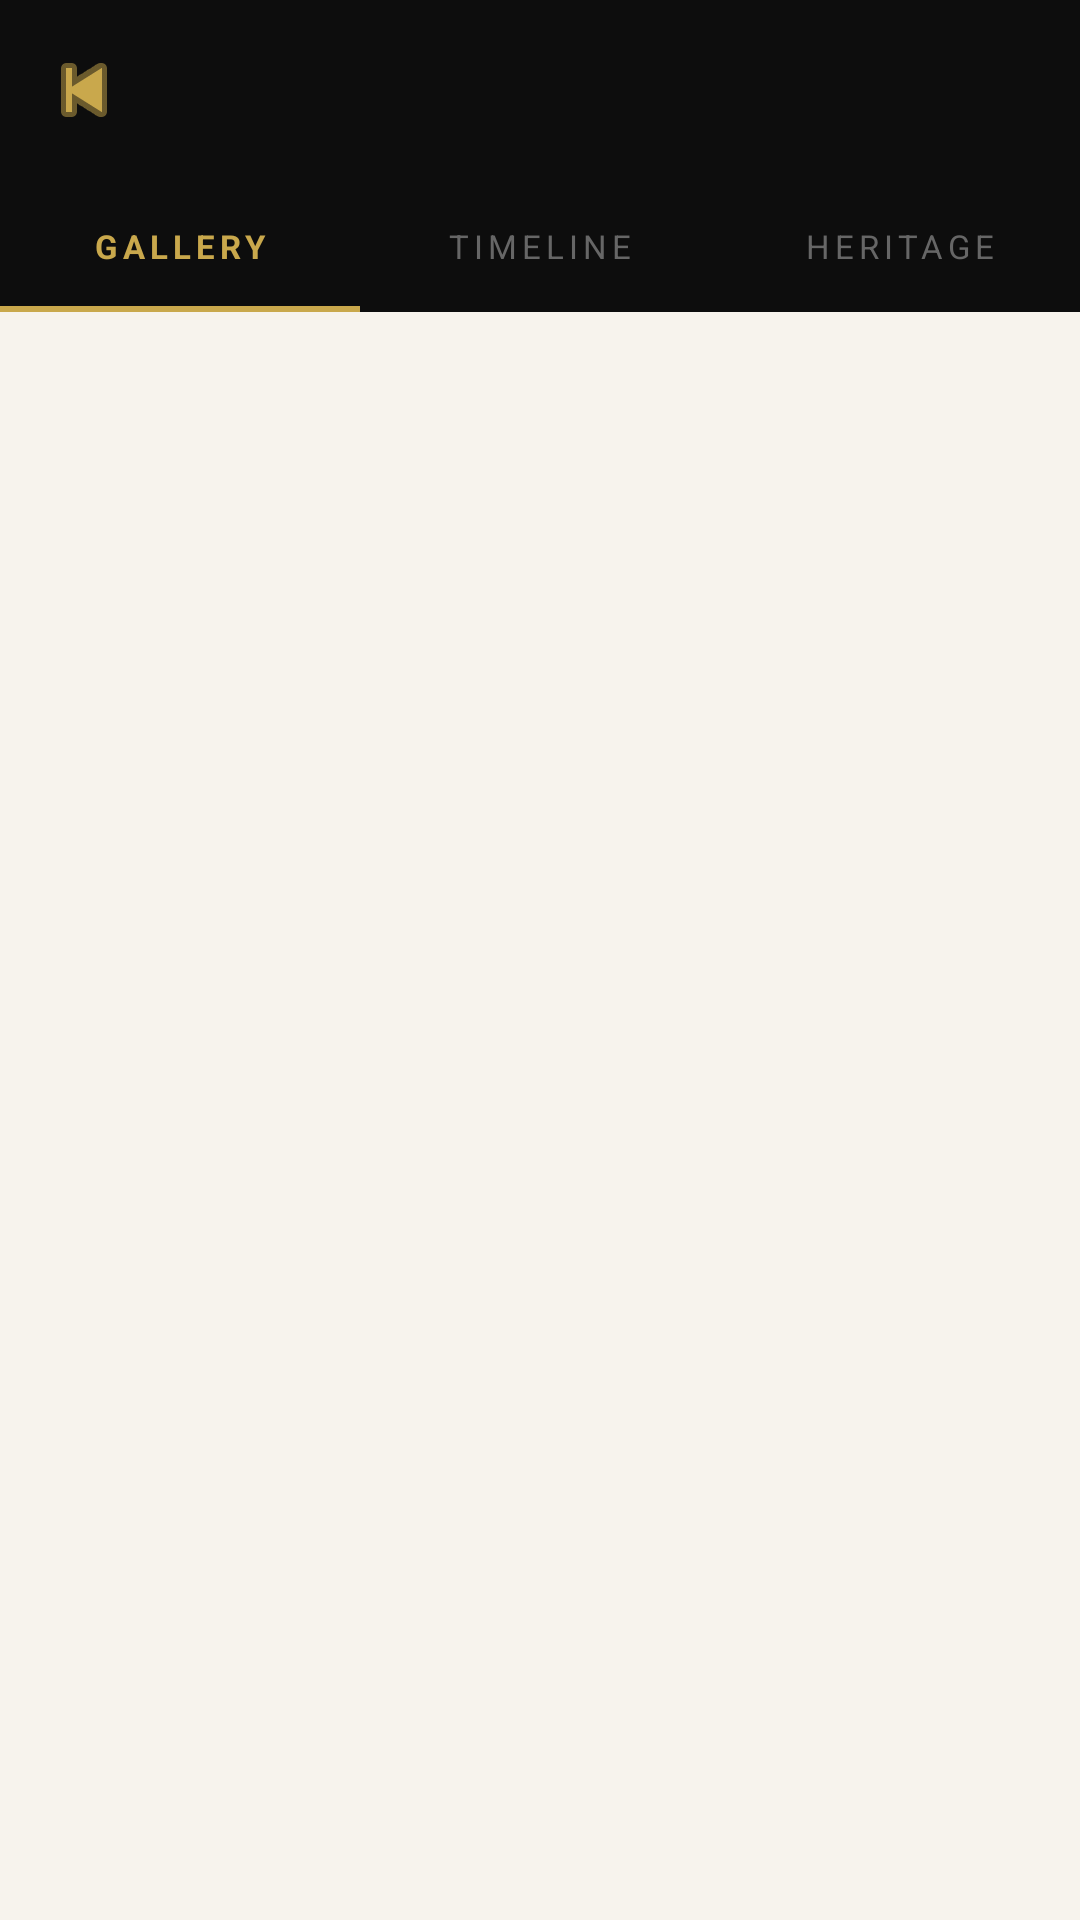

Point at icon controls on the screen. Image size 1080px×1920px, points as (x,y).
previous: (84,90)
